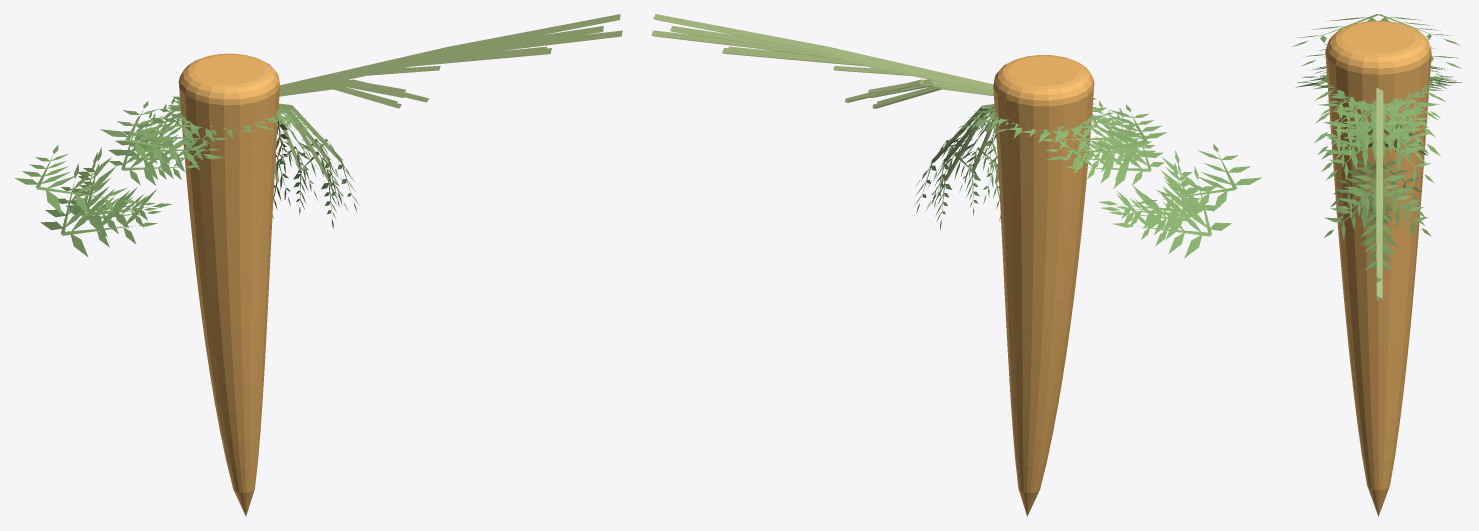
The model's file is carrot_harvest_v03.articulated.glb.
3 renders of one model, left to right at view 1: azimuth 30°, elevation 25°; view 2: azimuth 150°, elevation 25°; view 3: azimuth 270°, elevation 25°, orthographic. The views are drawn at different scales.
Visible parts, largest first — view 1: root, leaf04_link2, leaf01_link2, leaf00_link2, leaf04_link0, leaf05_link2, leaf02_link2, leaf01_link0, leaf03_link2, leaf05_link0, leaf04_link1; view 2: root, leaf04_link2, leaf01_link2, leaf00_link2, leaf01_link0, leaf05_link2, leaf02_link2, leaf03_link2, leaf03_link0, leaf02_link0, leaf04_link0; view 3: root, leaf04_link2, leaf01_link2, leaf05_link2, leaf02_link2, leaf00_link2, leaf01_link0, leaf03_link2.
Part boxes in pixels (x1,y1,x2,y2): root: (178, 53, 279, 516); leaf04_link2: (40, 96, 348, 257); leaf01_link2: (15, 100, 321, 214); leaf00_link2: (67, 99, 317, 231); leaf04_link0: (279, 30, 622, 93); leaf05_link2: (65, 103, 359, 237); leaf02_link2: (67, 96, 343, 223); leaf01_link0: (280, 14, 620, 85); leaf03_link2: (69, 103, 309, 233); leaf05_link0: (280, 48, 551, 93); leaf04_link1: (279, 79, 429, 102); root: (993, 55, 1094, 516); leaf04_link2: (925, 98, 1231, 258); leaf01_link2: (950, 103, 1261, 211); leaf00_link2: (959, 107, 1206, 231); leaf01_link0: (653, 14, 993, 90); leaf05_link2: (914, 104, 1210, 234); leaf02_link2: (926, 100, 1196, 232); leaf03_link2: (969, 111, 1199, 239); leaf03_link0: (670, 26, 993, 91); leaf02_link0: (727, 46, 993, 92); leaf04_link0: (651, 30, 992, 91); root: (1325, 20, 1431, 516); leaf04_link2: (1296, 66, 1461, 270); leaf01_link2: (1292, 14, 1461, 155); leaf05_link2: (1302, 73, 1442, 270); leaf02_link2: (1320, 65, 1453, 256); leaf00_link2: (1312, 67, 1456, 233); leaf01_link0: (1376, 87, 1383, 282); leaf03_link2: (1314, 70, 1446, 222).
Bounding box in the file's own units: 0.2203 × 0.1619 × 0.0541.
Materials: 1 (1 with a texture image).
